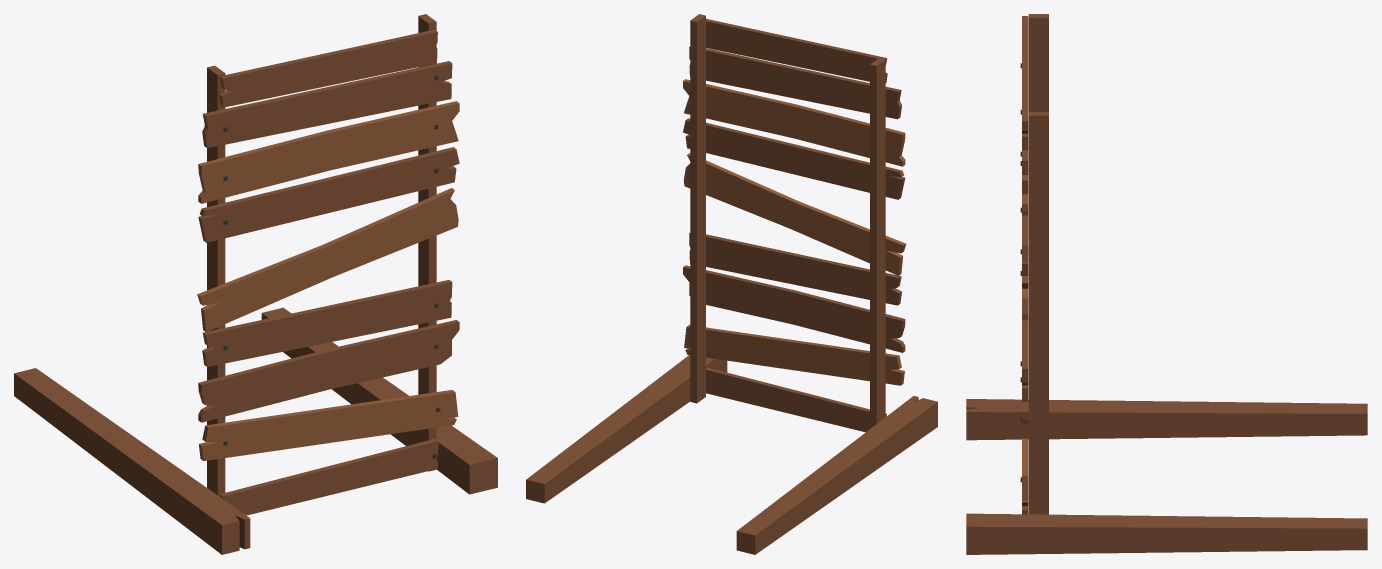
The model's file is Pier.gltf.
3 renders of one model, left to right at view 1: azimuth 30°, elevation 25°; view 2: azimuth 150°, elevation 25°; view 3: azimuth 270°, elevation 25°, orthographic. The views are drawn at different scales.
Visible parts, largest first — view 1: Pier_02_LOD0; view 2: Pier_02_LOD0; view 3: Pier_02_LOD0.
Part boxes in pixels (x1,y1,x2,y2): Pier_02_LOD0: [14, 14, 497, 554]; Pier_02_LOD0: [526, 14, 937, 554]; Pier_02_LOD0: [966, 14, 1367, 554].
Bounding box in the file's own units: 1.89 × 2.94 × 2.51.
